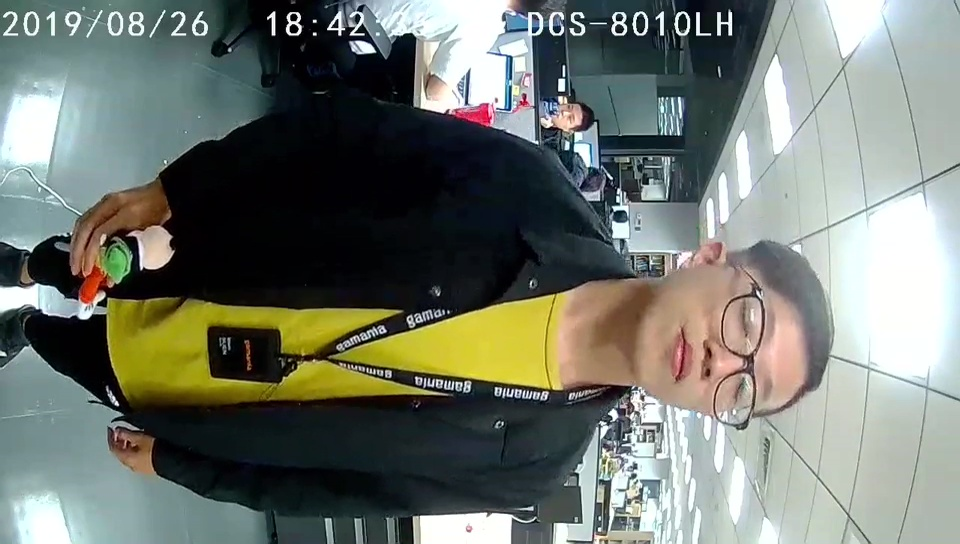goofy: (78, 224, 174, 323)
